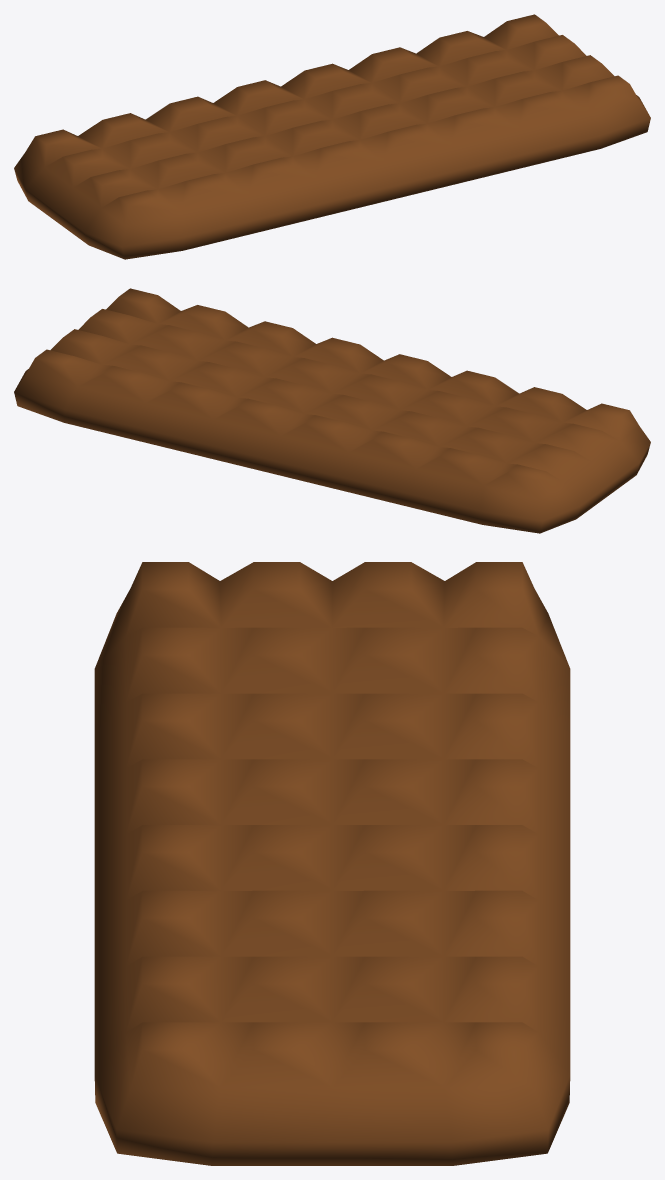
Rendered from Keyboard4.fbx.
3 renders of one model, top to bottom at view 1: azimuth 30°, elevation 25°; view 2: azimuth 150°, elevation 25°; view 3: azimuth 270°, elevation 25°, orthographic. The views are drawn at different scales.
Parts seen in each view (by area): view 1: Cube.089; view 2: Cube.089; view 3: Cube.089.
Part boxes in pixels (x1,y1,x2,y2): Cube.089: (14,14,650,259); Cube.089: (14,288,650,533); Cube.089: (94,562,570,1165).
Size of the model in its own units: 65.67 by 5.6 by 24.4.
